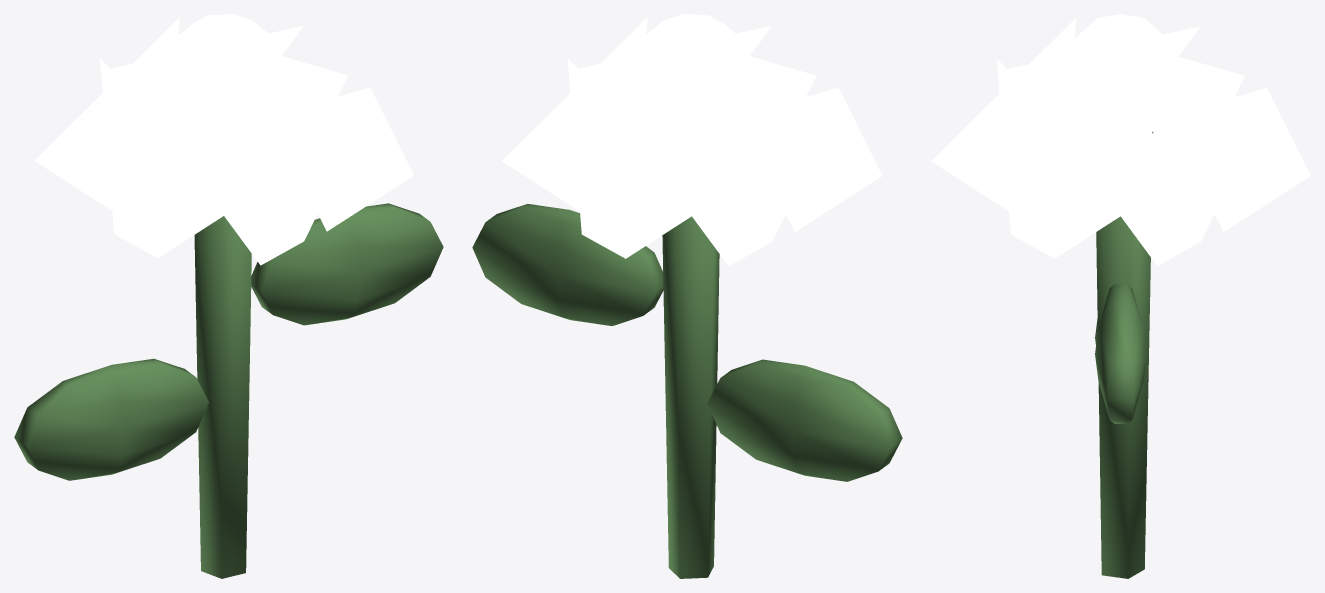
File: xy_item_nightflower.glb
The picture shows the model from 3 angles, left to right: view 1: azimuth 30°, elevation 25°; view 2: azimuth 150°, elevation 25°; view 3: azimuth 270°, elevation 25°; orthographic projection.
Visible parts, largest first — view 1: xy_item_nightflower; view 2: xy_item_nightflower; view 3: xy_item_nightflower.
Boxes of the visible parts, x1,y1,x2,y2 form: xy_item_nightflower: (14, 14, 443, 578); xy_item_nightflower: (472, 14, 902, 578); xy_item_nightflower: (931, 14, 1310, 578).
Size of the model in its own units: 0.444 by 0.56 by 0.3509.
